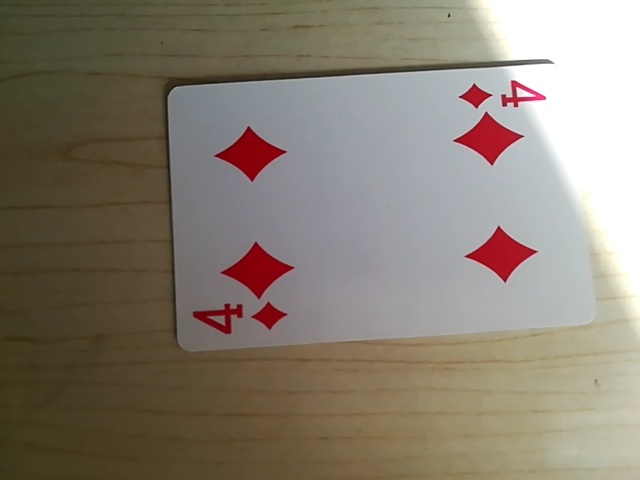fk 4: (188, 295, 288, 345), (460, 74, 553, 115)
